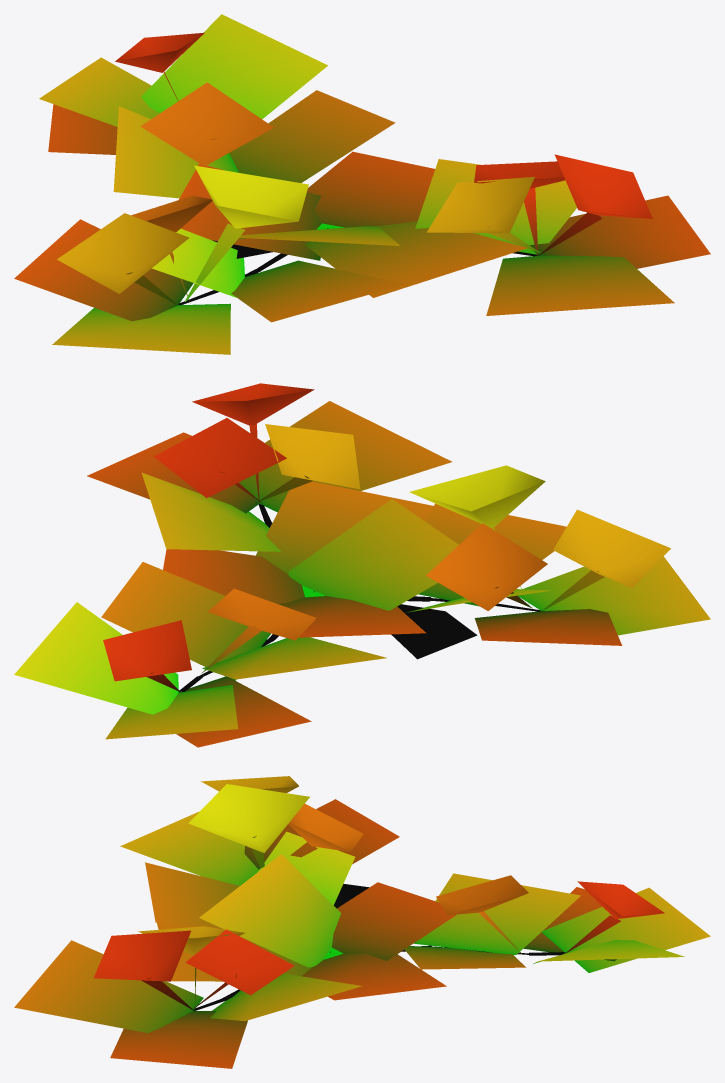
File: Mile-a-minute Vine_LOD2_Var3_sfqns.fbx
3 views of the same model, one above another, from view 1: azimuth 30°, elevation 25°; view 2: azimuth 150°, elevation 25°; view 3: azimuth 270°, elevation 25° (orthographic). The views are drawn at different scales.
Visible parts, largest first — view 1: _6f90_Var3_LOD2; view 2: _6f90_Var3_LOD2; view 3: _6f90_Var3_LOD2.
Boxes of the visible parts, x1,y1,x2,y2 form: _6f90_Var3_LOD2: (14,14,710,354); _6f90_Var3_LOD2: (14,383,710,747); _6f90_Var3_LOD2: (14,776,710,1068).
Size of the model in its own units: 35 by 6.36 by 39.
